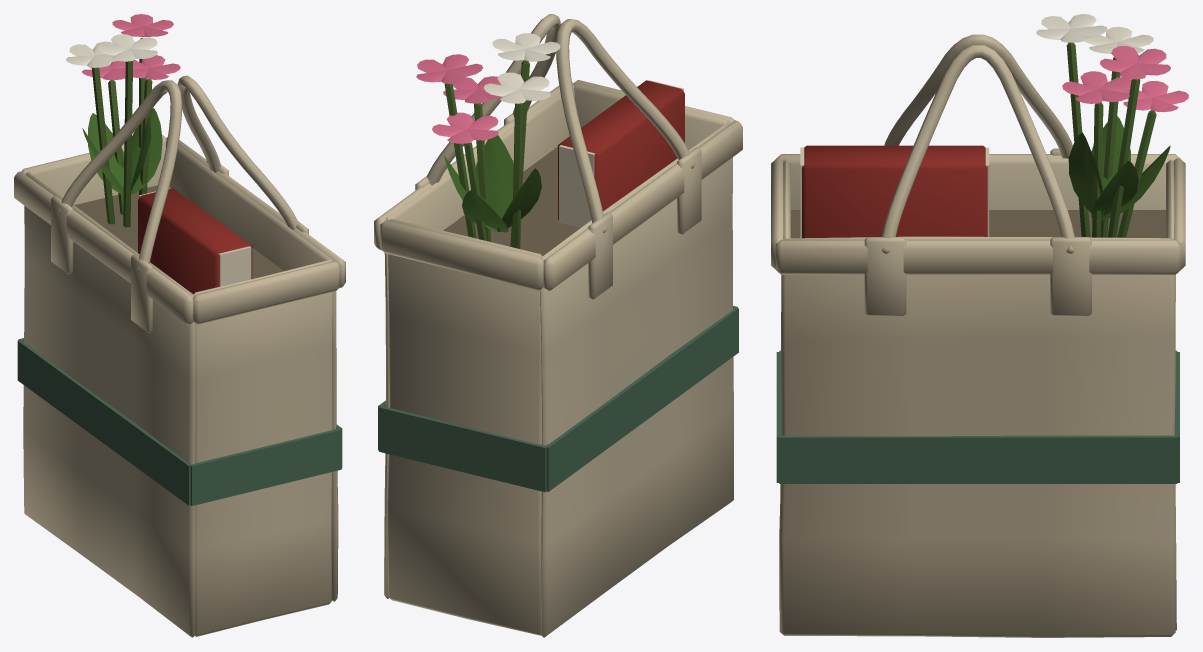
Rendered from shopping_bag_tote.glb.
3 renders of one model, left to right at view 1: azimuth 30°, elevation 25°; view 2: azimuth 150°, elevation 25°; view 3: azimuth 270°, elevation 25°, orthographic. The views are drawn at different scales.
Parts seen in each view (by area): view 1: Sammel Stoff, Sammel Pflanze, Sammel Glatt, Sammel Lack; view 2: Sammel Stoff, Sammel Pflanze, Sammel Glatt, Sammel Lack; view 3: Sammel Stoff, Sammel Pflanze, Sammel Glatt.
Part boxes in pixels (x1,y1,x2,y2): Sammel Stoff: [14, 75, 345, 637]; Sammel Pflanze: [66, 14, 180, 194]; Sammel Glatt: [92, 37, 152, 227]; Sammel Lack: [139, 188, 251, 286]; Sammel Stoff: [374, 14, 742, 637]; Sammel Pflanze: [416, 33, 560, 232]; Sammel Glatt: [444, 60, 529, 248]; Sammel Lack: [559, 80, 683, 227]; Sammel Stoff: [771, 34, 1185, 637]; Sammel Pflanze: [1036, 14, 1188, 219]; Sammel Glatt: [1066, 42, 1156, 237].
Size of the model in its own units: 0.0957 by 0.2687 by 0.1802.
